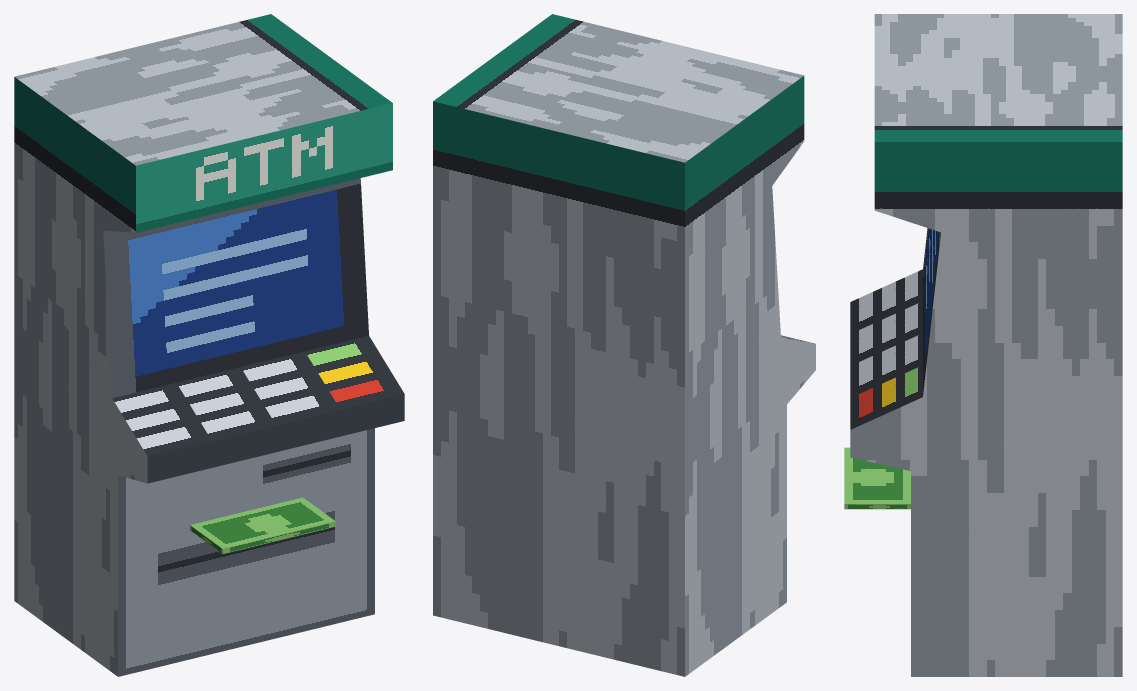
Rendered from play-atm.glb.
The picture shows the model from 3 angles, left to right: view 1: azimuth 30°, elevation 25°; view 2: azimuth 150°, elevation 25°; view 3: azimuth 270°, elevation 25°; orthographic projection. The views are drawn at different scales.
Parts seen in each view (by area): view 1: play.atm; view 2: play.atm; view 3: play.atm.
Part boxes in pixels (x1,y1,x2,y2): play.atm: (14, 14, 404, 676); play.atm: (433, 14, 815, 676); play.atm: (844, 14, 1122, 676).
Size of the model in its own units: 0.8415 by 1.64 by 0.7742.
7 materials, 6 textured.
